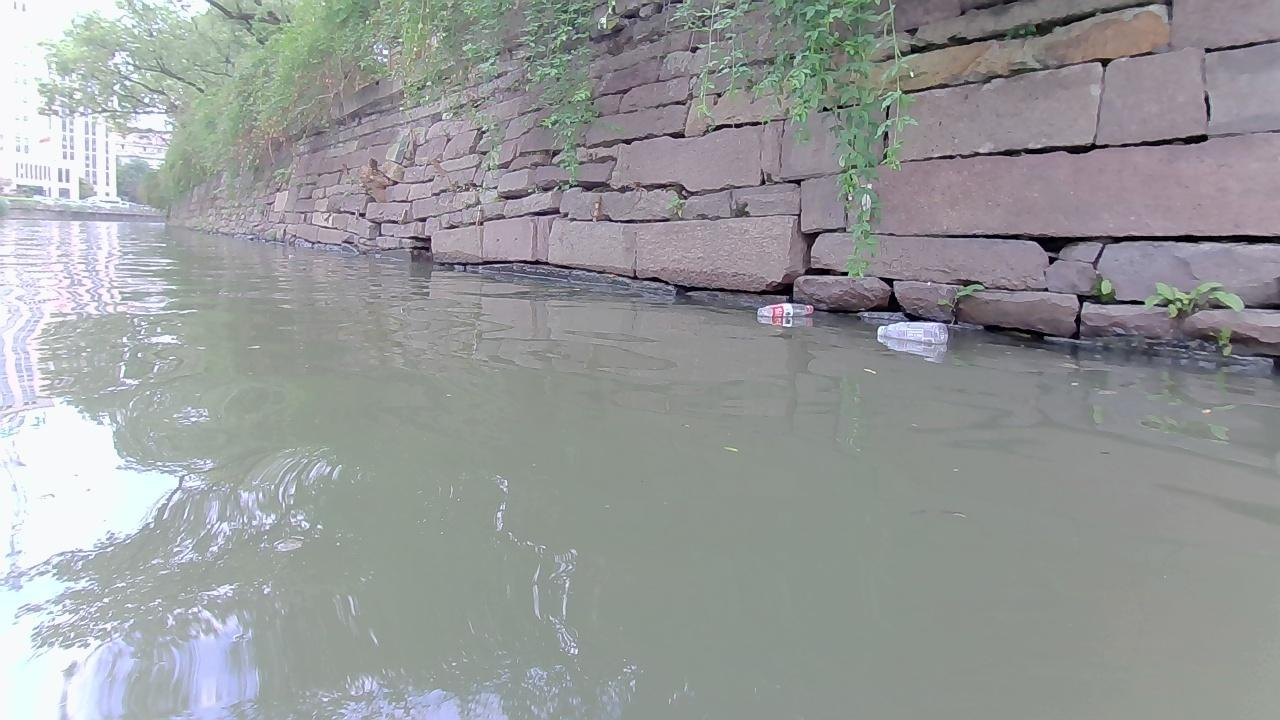bottle: (874, 320, 947, 344), (755, 302, 814, 316)
